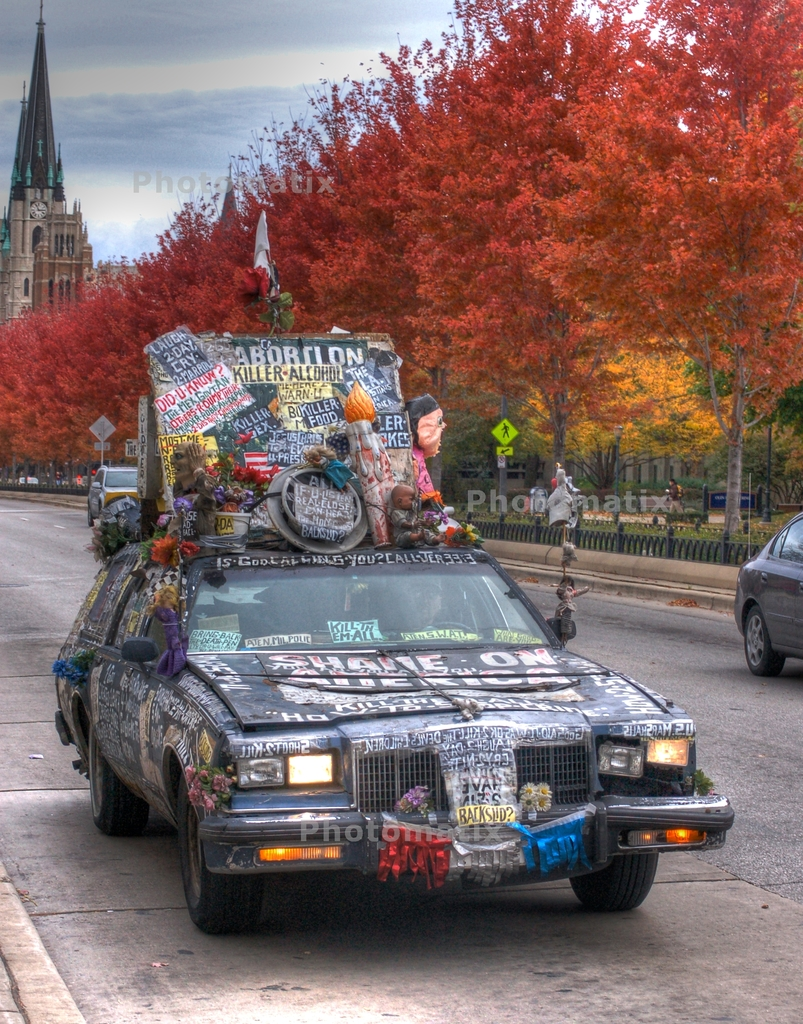Car: (47, 543, 734, 936), (735, 516, 802, 679), (85, 456, 143, 544)
